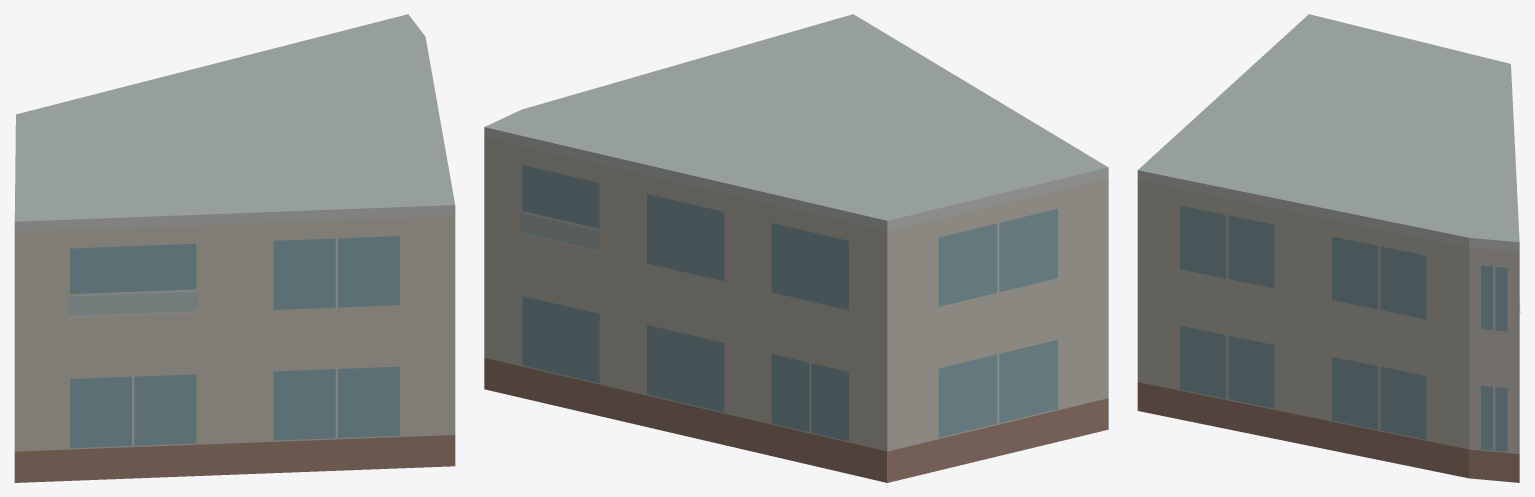
Rendered from survey-upis-32727109.glb.
3 views of the same model, side by side, from view 1: azimuth 30°, elevation 25°; view 2: azimuth 150°, elevation 25°; view 3: azimuth 270°, elevation 25° (orthographic). The views are drawn at different scales.
Parts seen in each view (by area): view 1: survey-upis-32727109.tmp; view 2: survey-upis-32727109.tmp; view 3: survey-upis-32727109.tmp.
Part boxes in pixels (x1=…): survey-upis-32727109.tmp: x1=14, y1=14, x2=455, y2=482; survey-upis-32727109.tmp: x1=484, y1=14, x2=1108, y2=482; survey-upis-32727109.tmp: x1=1137, y1=14, x2=1520, y2=482.
Size of the model in its own units: 12.43 by 6.1 by 8.81.
